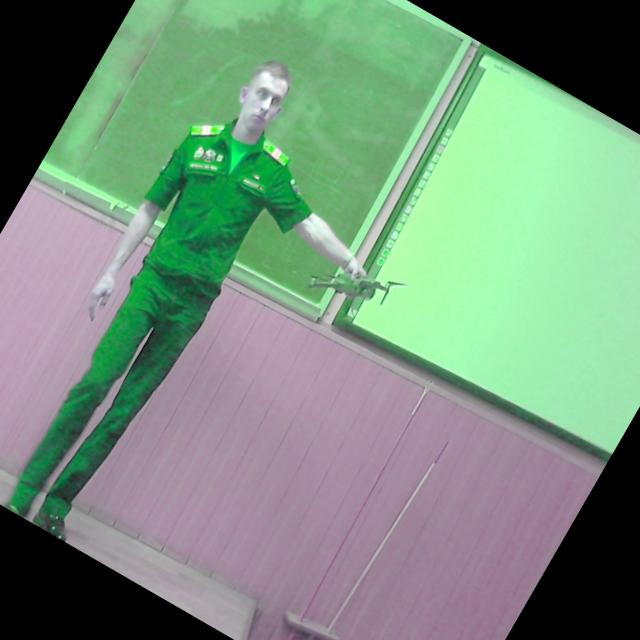drone: (297, 233, 408, 329)
